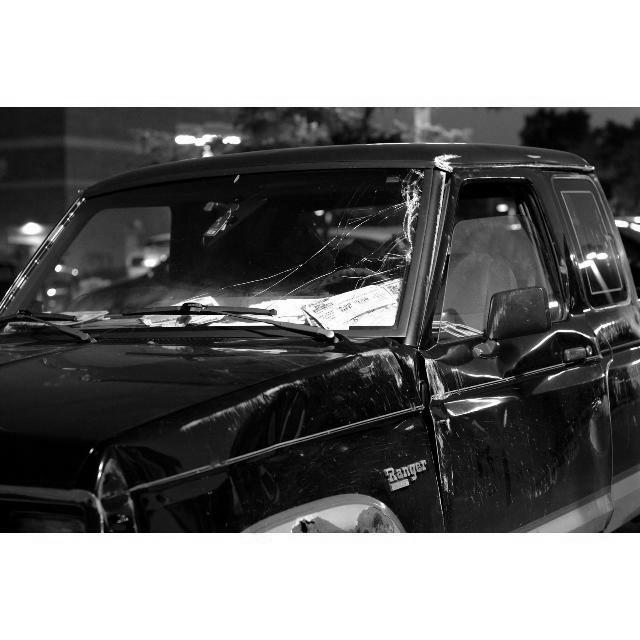Front-windscreen-damage: (191, 168, 440, 342)
doorouter-dent: (436, 330, 601, 516)
fender-dent: (227, 353, 427, 475)
